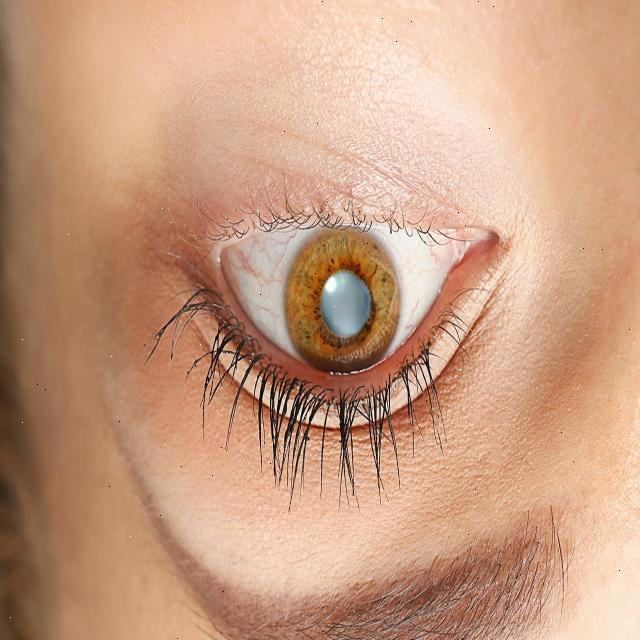Cataract: (285, 221, 402, 381)
